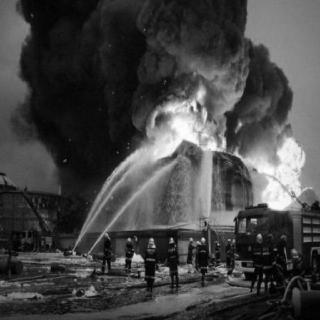Fire: (248, 129, 310, 205)
Smoke: (19, 1, 139, 167)
